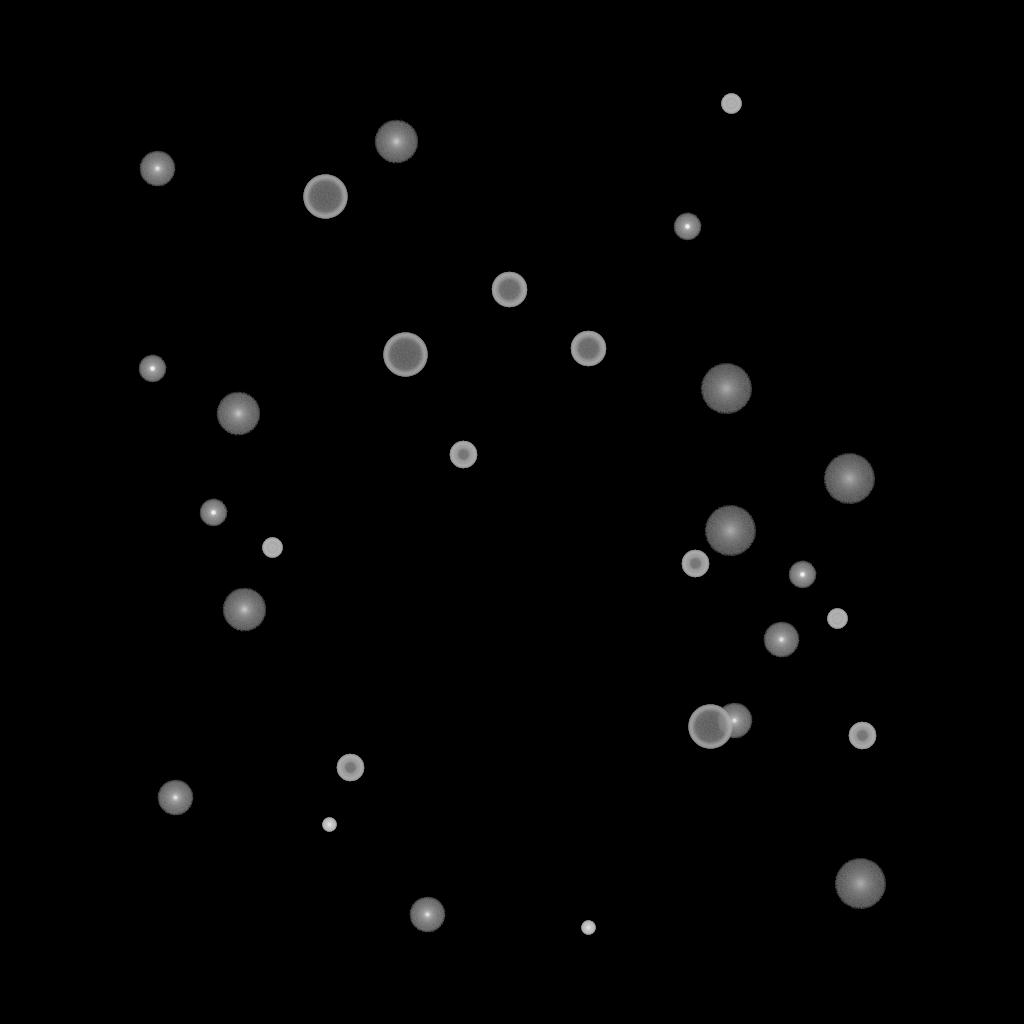depth:-10: (199, 499, 227, 527), (673, 213, 701, 241), (138, 355, 166, 383), (788, 561, 816, 589)
depth:-30: (581, 921, 595, 935), (322, 818, 336, 832)
depth:-40: (262, 538, 282, 558), (827, 609, 847, 629), (721, 94, 741, 114)
depth:-50: (848, 722, 876, 750), (681, 550, 709, 578), (449, 441, 477, 469), (336, 754, 364, 782)
depth:-60: (491, 272, 527, 308), (570, 331, 606, 367)
depth:-70: (383, 333, 427, 377), (688, 705, 732, 749), (303, 175, 347, 219)
depth:0: (409, 897, 445, 933), (157, 780, 193, 816), (139, 151, 175, 187), (716, 703, 752, 739), (763, 622, 799, 658)
depth:10: (222, 588, 266, 632), (374, 120, 418, 164), (216, 392, 260, 436)
depth:20: (834, 859, 886, 909), (823, 454, 875, 504), (704, 506, 756, 556), (700, 364, 752, 414)
